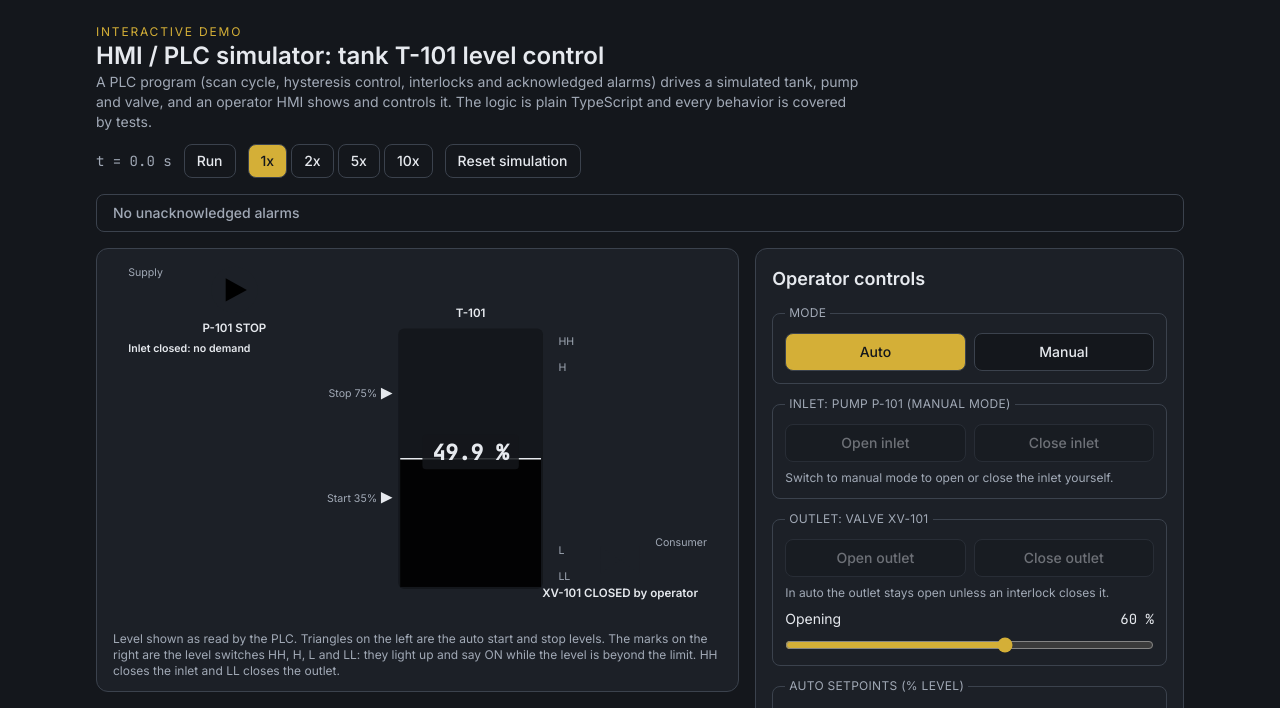
manual operation › only enables the inlet and outlet buttons in manual mode
Expected: the button "Open inlet" is disabled, [785,424,966,462]
Expected: the button "Close inlet" is disabled, [974,424,1154,462]
Click the button "manual" at (1064, 352), box [974,333,1154,371]
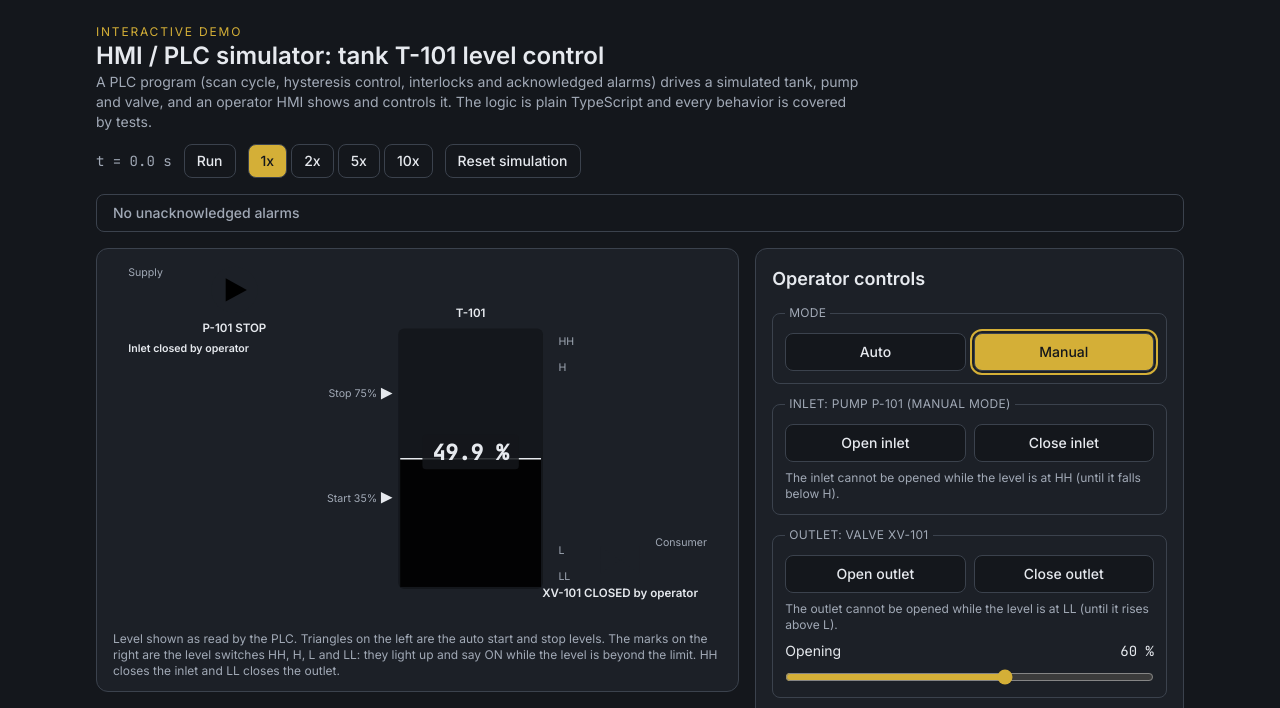
Expected: the button "Open inlet" is enabled, [785,424,966,462]
Expected: the button "Close inlet" is enabled, [974,424,1154,462]
Expected: the button "Open outlet" is enabled, [785,555,966,593]
